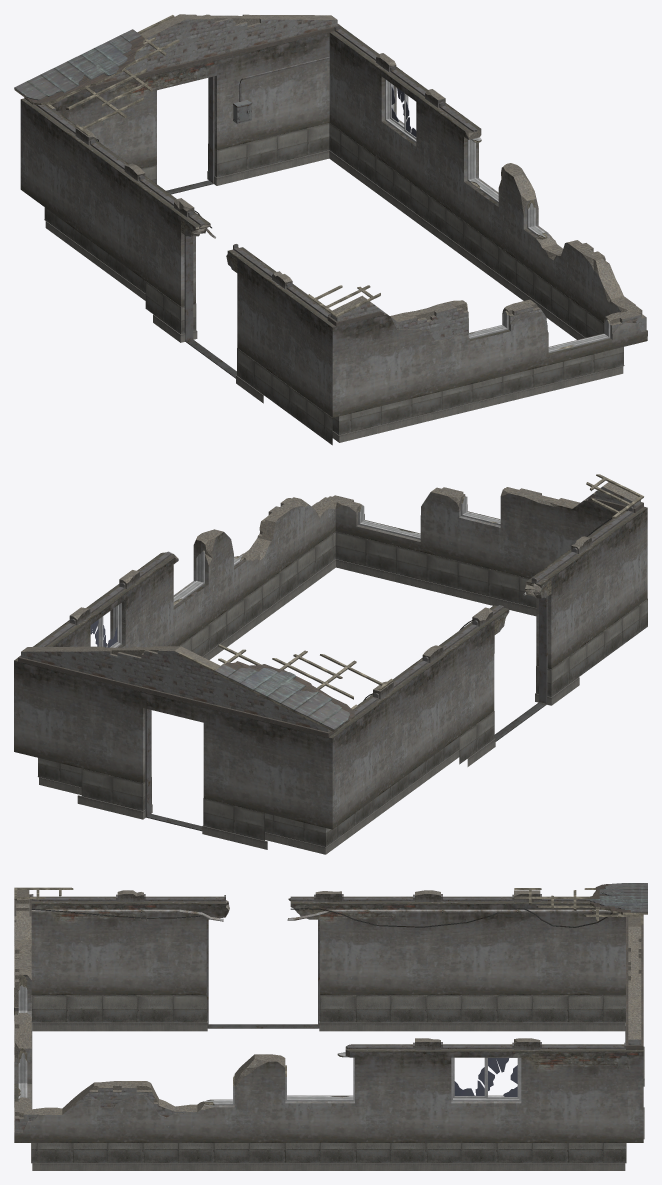
The model's file is Cemetery_STR_House_01.fbx.
3 renders of one model, top to bottom at view 1: azimuth 30°, elevation 25°; view 2: azimuth 150°, elevation 25°; view 3: azimuth 270°, elevation 25°, orthographic.
Visible parts, largest first — view 1: Cemetery_STR_House_01; view 2: Cemetery_STR_House_01; view 3: Cemetery_STR_House_01.
Boxes of the visible parts, x1,y1,x2,y2 form: Cemetery_STR_House_01: (14, 14, 647, 445); Cemetery_STR_House_01: (14, 474, 647, 854); Cemetery_STR_House_01: (14, 883, 647, 1170).
Bounding box in the file's own units: 852 × 441 × 1450.
2 materials, 2 textured.
